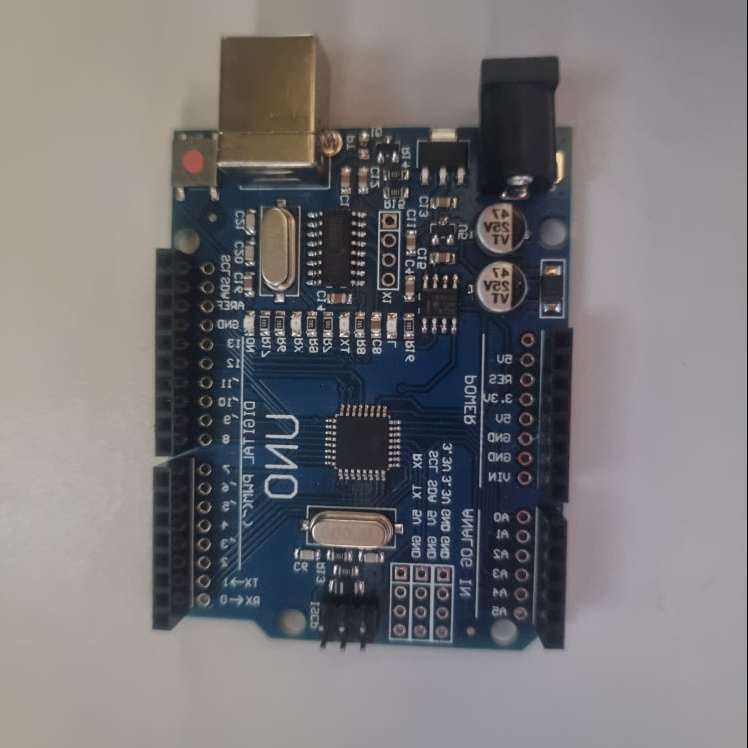UNO R3: (156, 34, 569, 657)
